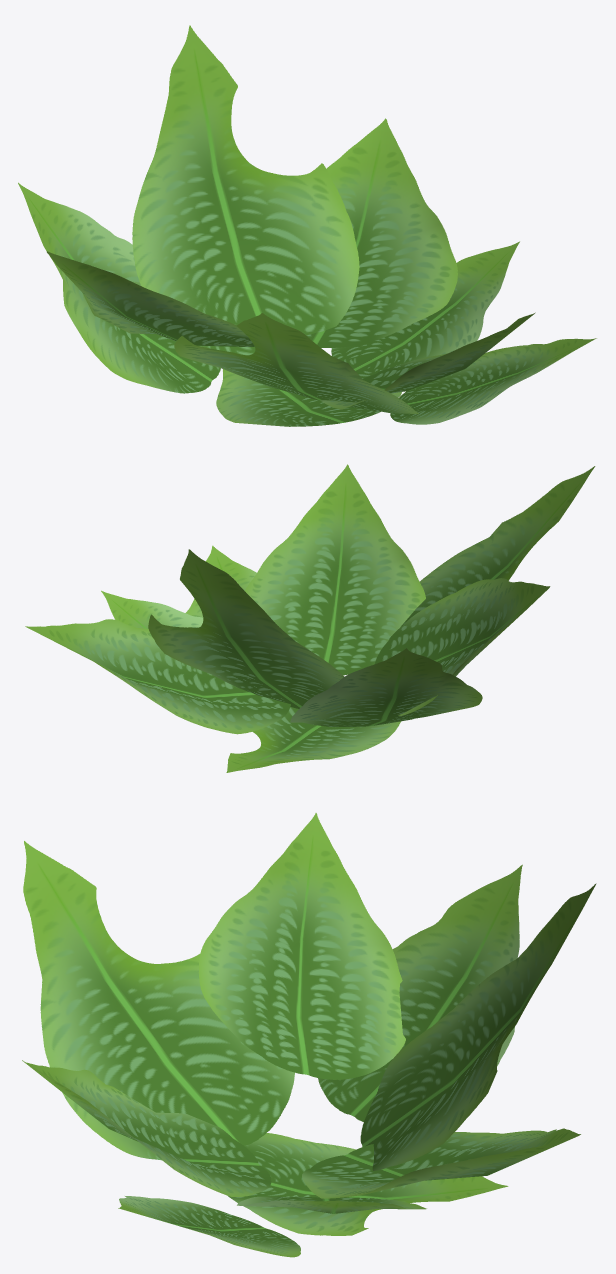
The model's file is bush_4_petit.fbx.
3 views of the same model, one above another, from view 1: azimuth 30°, elevation 25°; view 2: azimuth 150°, elevation 25°; view 3: azimuth 270°, elevation 25° (orthographic). The views are drawn at different scales.
Parts seen in each view (by area): view 1: feuillage_4_petit; view 2: feuillage_4_petit; view 3: feuillage_4_petit.
Boxes of the visible parts, box(x1,y1,x2,y2) form: feuillage_4_petit: box(18, 25, 596, 426); feuillage_4_petit: box(25, 464, 595, 772); feuillage_4_petit: box(22, 813, 596, 1257).
Size of the model in its own units: 109 by 63.2 by 102.
